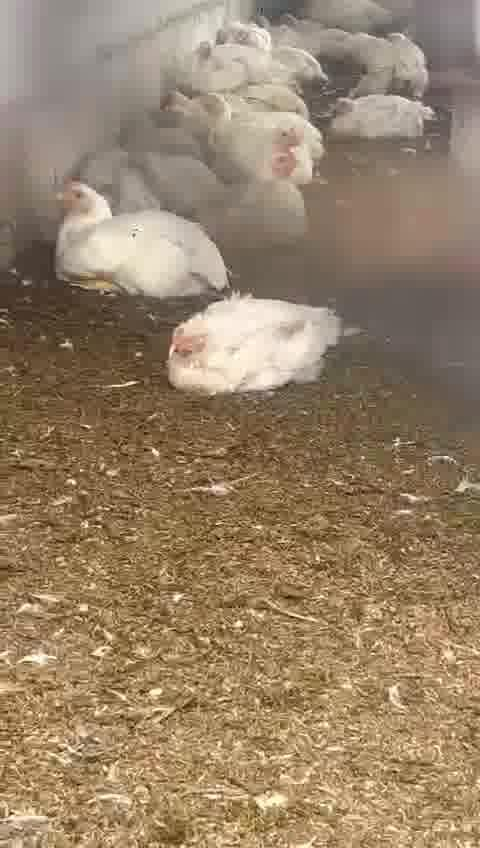AbNormal: (162, 289, 348, 395), (76, 142, 193, 204), (111, 117, 204, 173), (176, 42, 251, 91), (136, 87, 205, 139)
Normal: (53, 176, 231, 301), (210, 145, 317, 248), (204, 92, 314, 157), (322, 89, 433, 146)
